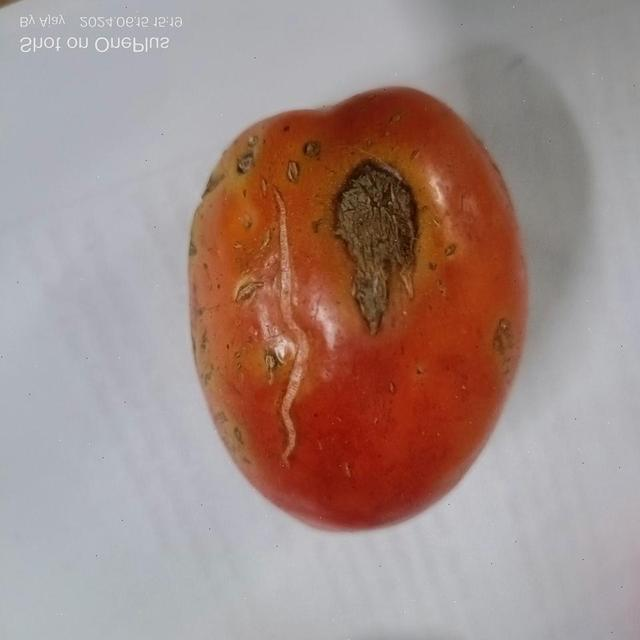Cracking Fruit: (194, 179, 279, 315)
